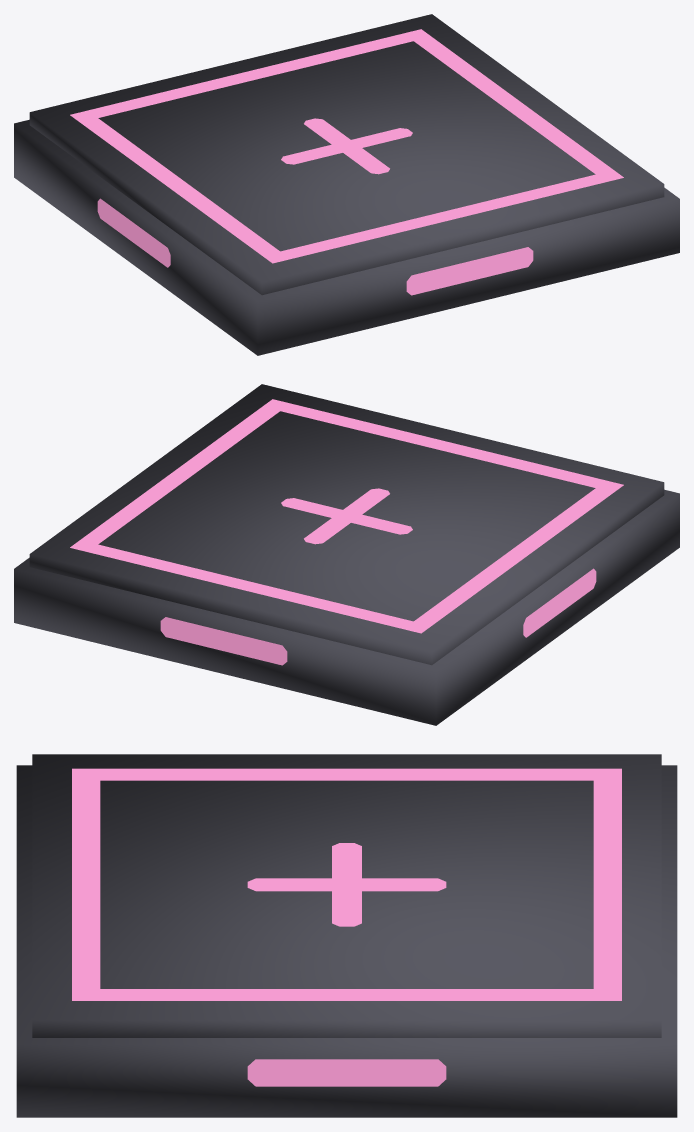
The model's file is spawningPlatform.glb.
The picture shows the model from 3 angles, top to bottom: view 1: azimuth 30°, elevation 25°; view 2: azimuth 150°, elevation 25°; view 3: azimuth 270°, elevation 25°; orthographic projection. The views are drawn at different scales.
Parts seen in each view (by area): view 1: PlatformSmallPink; view 2: PlatformSmallPink; view 3: PlatformSmallPink.
Boxes of the visible parts, x1,y1,x2,y2 form: PlatformSmallPink: [14, 14, 679, 355]; PlatformSmallPink: [14, 384, 679, 725]; PlatformSmallPink: [16, 754, 677, 1117].
Size of what is drawn, in the model's own units: 2.42 by 0.3741 by 2.42.
2 materials, 2 textured.
